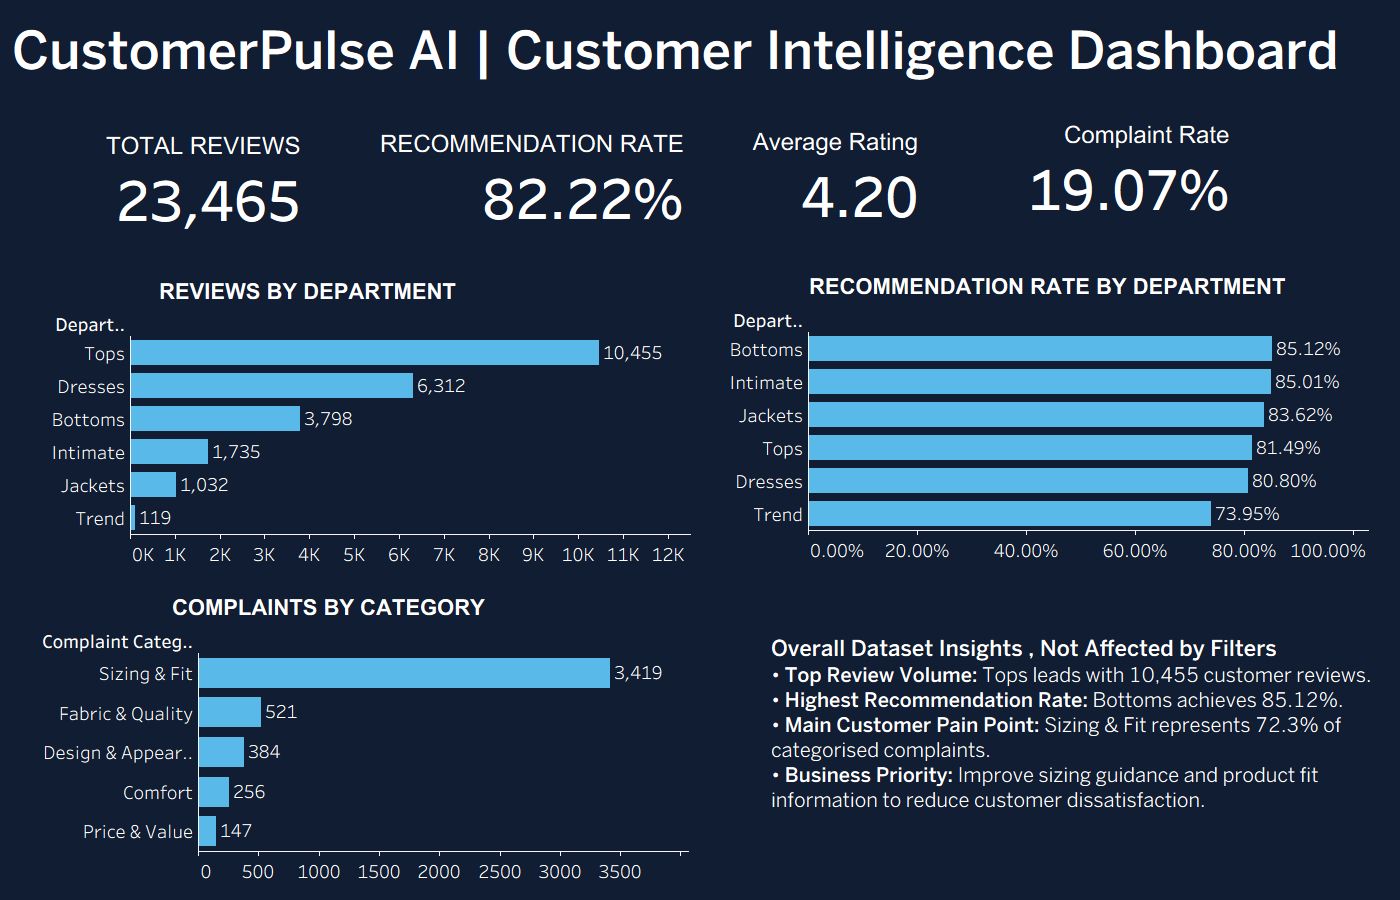

What the dashboard file says about the page in this screenshot:
{"tool":"tableau","page":{"name":"CustomerPulse AI | Executive Dashboard","canvas":[1400,900],"ordinal":0},"visuals":[{"type":"blank","box":[0,0,1400,900]},{"type":"text","box":[8,19,1340,65]},{"type":"worksheet","title":"KPI - Total Reviews","mark":"Automatic","box":[58,110,247,150]},{"type":"worksheet","title":"KPI - Complaint Rate","mark":"Automatic","box":[1014,122,313,115]},{"type":"worksheet","title":"KPI - Average Rating","mark":"Automatic","box":[723,129,251,113]},{"type":"worksheet","title":"KPI - Recommendation Rate","mark":"Automatic","box":[368,131,338,135]},{"type":"text","box":[805,261,564,51]},{"type":"text","box":[155,268,492,48]},{"type":"worksheet","title":"Recommendation Rate by Department","mark":"Automatic","rows":["Department Name"],"cols":["Recommended IND"],"box":[728,312,640,250]},{"type":"worksheet","title":"Reviews by Department","mark":"Automatic","rows":["Department Name"],"cols":["Clothing ID"],"box":[50,316,640,250]},{"type":"text","box":[168,593,369,30]},{"type":"text","box":[767,594,610,266]},{"type":"worksheet","title":"Complaints by Category","mark":"Automatic","rows":["Complaint_Category"],"cols":["Complaint_Category"],"box":[38,633,650,250]}]}

Visuals, with their boxes in screenshot pixels (x1, y1, x2, y2), scaled from the page's 1400x900 canvas onto the 1400x900 screenshot:
blank: crop(0, 0, 1399, 899)
text: crop(8, 19, 1348, 84)
"KPI - Total Reviews" worksheet: crop(58, 110, 305, 260)
"KPI - Complaint Rate" worksheet: crop(1014, 122, 1327, 237)
"KPI - Average Rating" worksheet: crop(723, 129, 974, 242)
"KPI - Recommendation Rate" worksheet: crop(368, 131, 706, 266)
text: crop(805, 261, 1369, 312)
text: crop(155, 268, 647, 316)
"Recommendation Rate by Department" worksheet: crop(728, 312, 1368, 562)
"Reviews by Department" worksheet: crop(50, 316, 690, 566)
text: crop(168, 593, 537, 623)
text: crop(767, 594, 1377, 860)
"Complaints by Category" worksheet: crop(38, 633, 688, 883)
